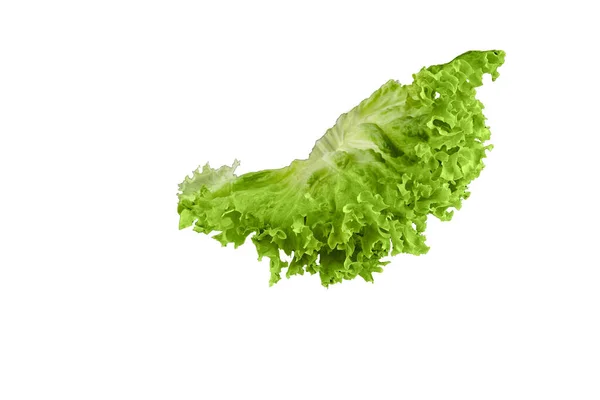lettuce: (109, 39, 539, 281)
